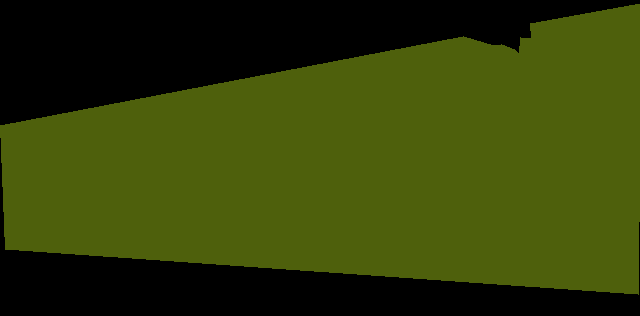Train: (0, 3, 640, 295)
